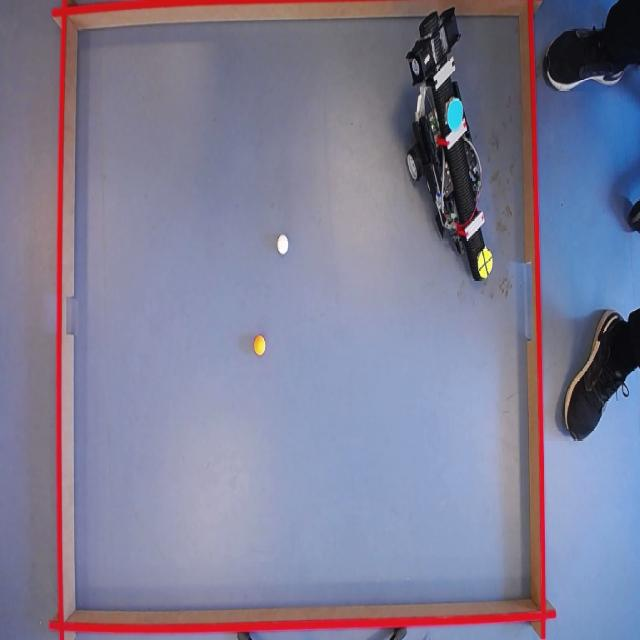orange: (254, 336, 267, 356)
robot: (404, 3, 496, 290)
robot-front: (478, 248, 493, 280)
robot-rear: (445, 97, 464, 132)
white: (276, 234, 289, 254)
